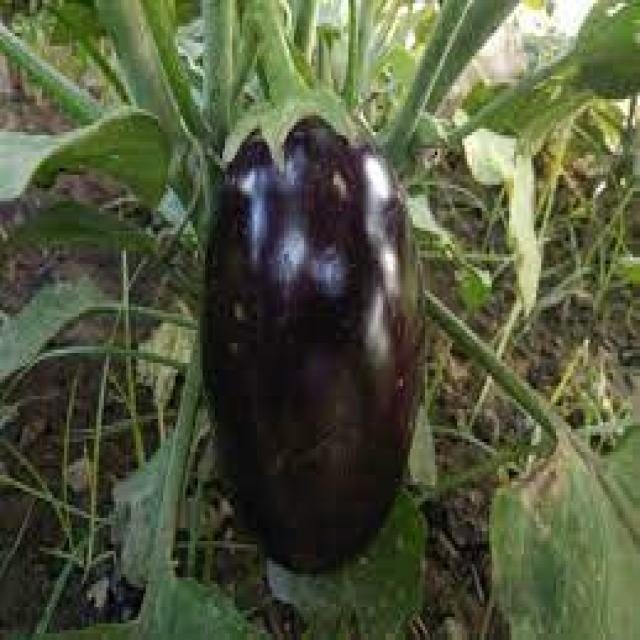Eggplant: (195, 21, 428, 574)
